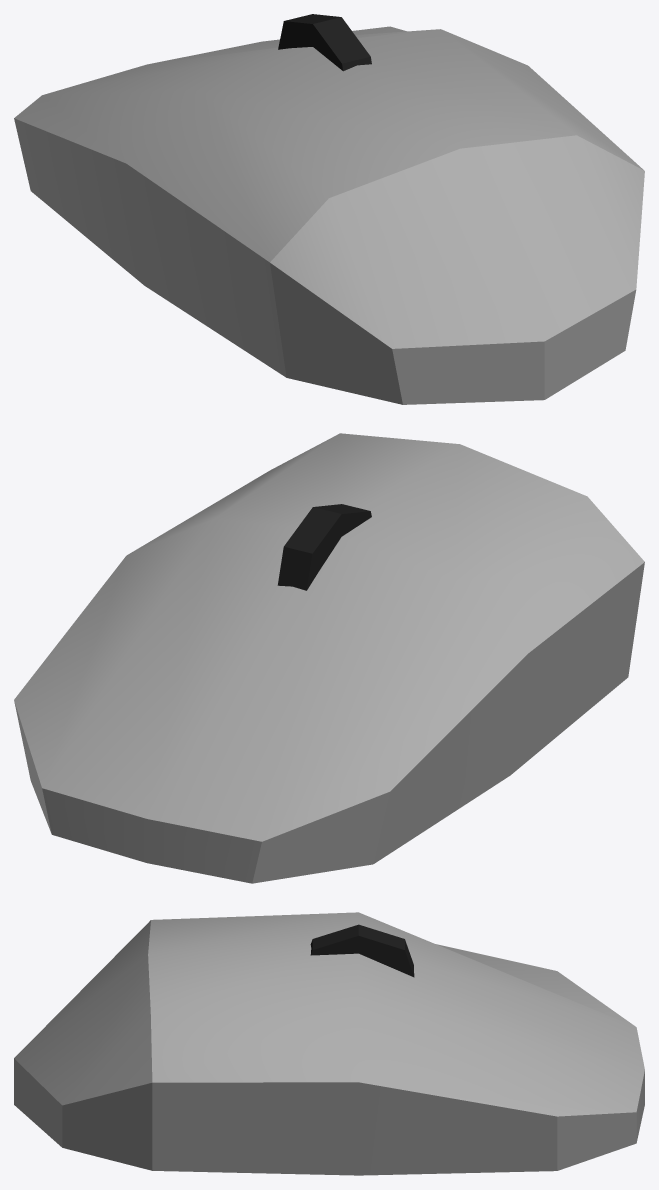
File: mouse.fbx
3 renders of one model, top to bottom at view 1: azimuth 30°, elevation 25°; view 2: azimuth 150°, elevation 25°; view 3: azimuth 270°, elevation 25°, orthographic. The views are drawn at different scales.
Visible parts, largest first — view 1: mouse; view 2: mouse; view 3: mouse.
Part boxes in pixels (x1,y1,x2,y2): mouse: (14,14,644,404); mouse: (14,433,644,883); mouse: (14,912,644,1175).
Bounding box in the file's own units: 62.92 × 32.97 × 108.
1 material, 1 textured.
